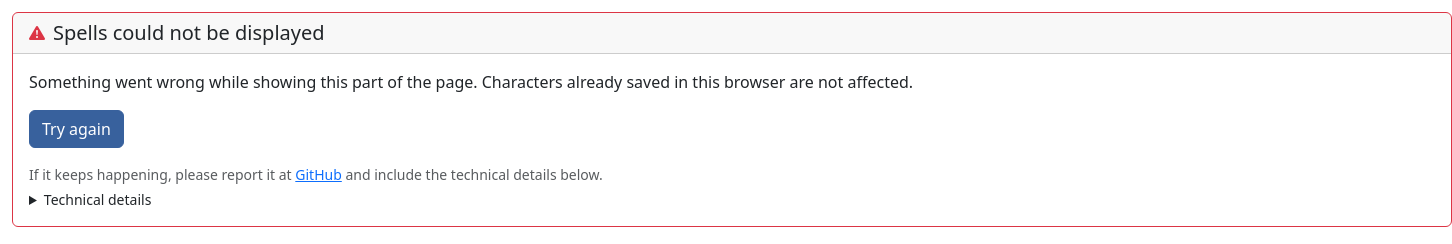
Test: ErrorBoundary › shows the content again after "Try again" once the cause is gone
The width and height of the screenshot is (1452, 244).
Click the button "Try again": (76, 129) [29,110,124,148]
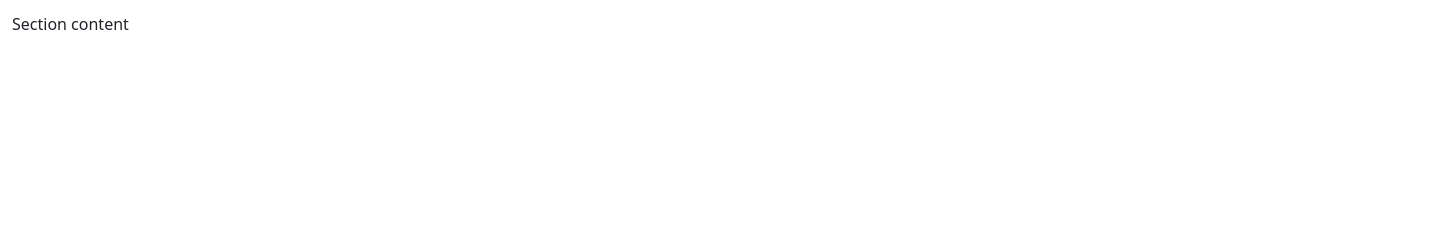
Expected: the text "Section content" is shown, [12,13,129,35]
Expected: the message is gone
